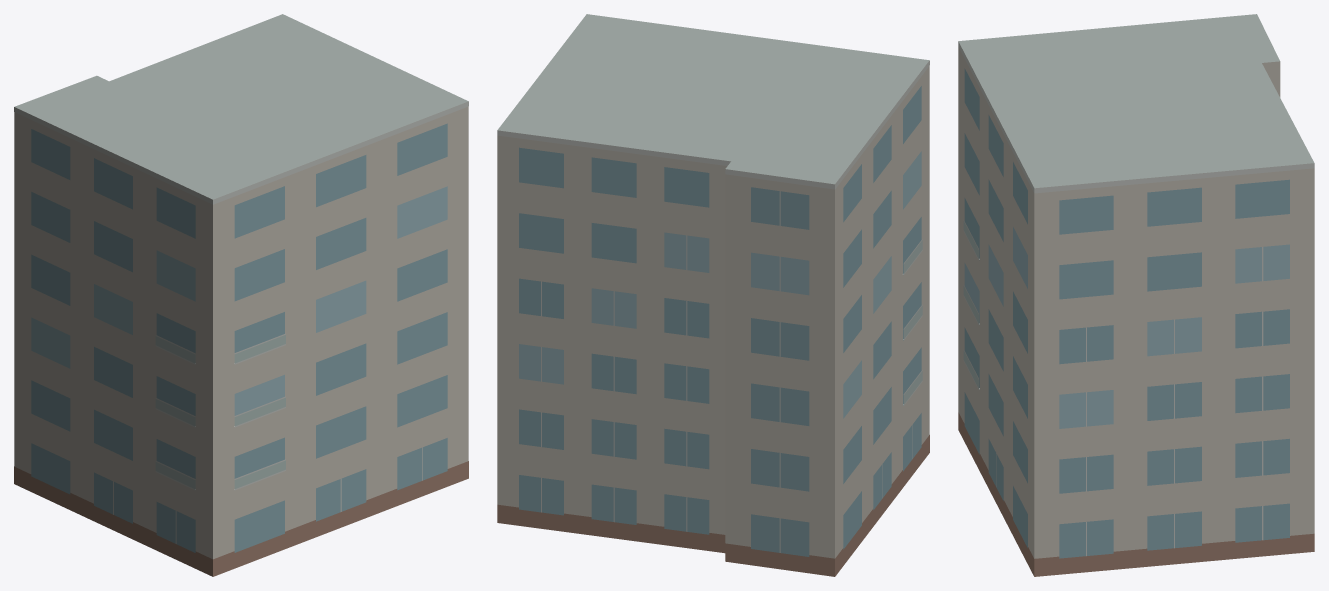
File: survey-upis-32927300.glb
3 views of the same model, side by side, from view 1: azimuth 30°, elevation 25°; view 2: azimuth 150°, elevation 25°; view 3: azimuth 270°, elevation 25° (orthographic). The views are drawn at different scales.
Visible parts, largest first — view 1: survey-upis-32927300.tmp; view 2: survey-upis-32927300.tmp; view 3: survey-upis-32927300.tmp.
Boxes of the visible parts, x1,y1,x2,y2 form: survey-upis-32927300.tmp: (14,14,468,576); survey-upis-32927300.tmp: (497,14,929,576); survey-upis-32927300.tmp: (958,14,1314,576).
Bounding box in the file's own units: 17.61 × 18.3 × 15.22.
